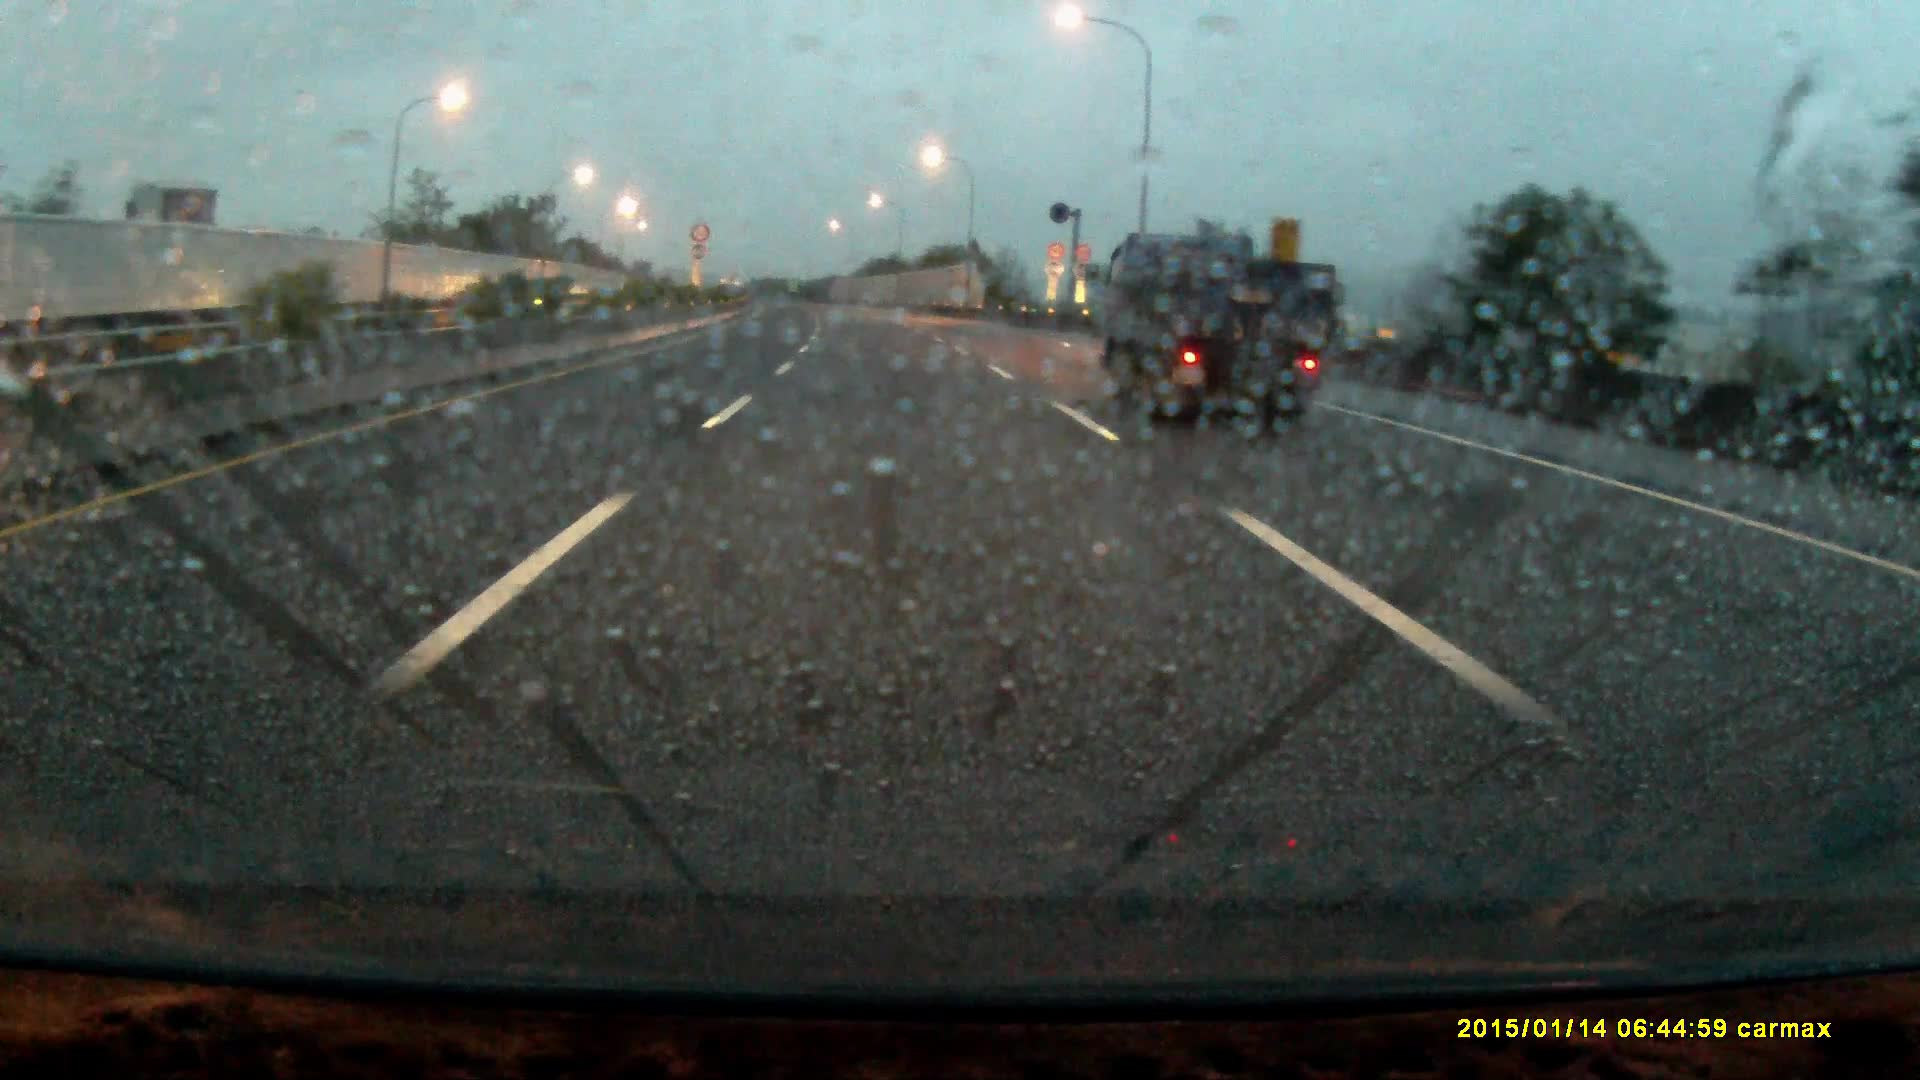vehicle: (1101, 239, 1336, 425)
